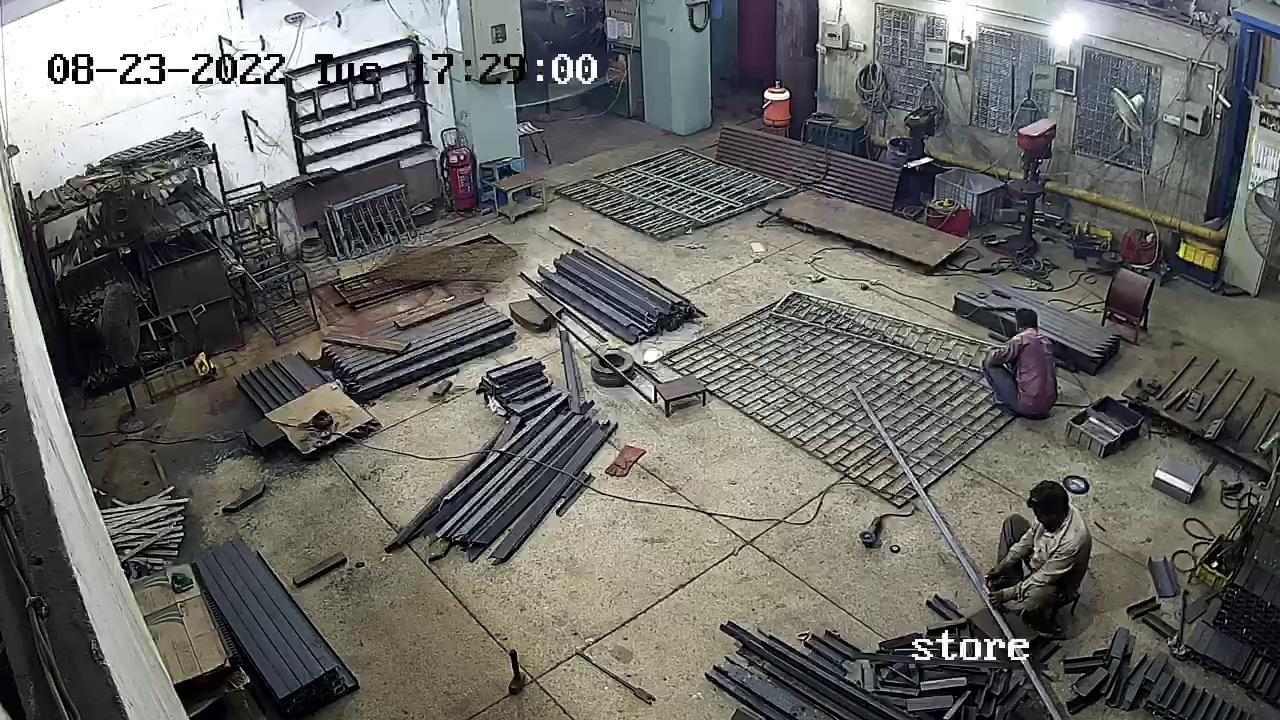person: (1002, 475, 1088, 630), (991, 308, 1060, 415)
